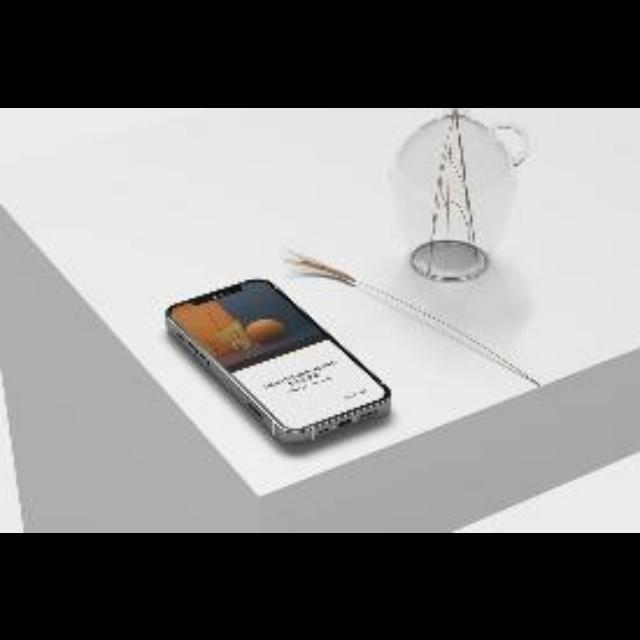Phone: (163, 279, 391, 446)
